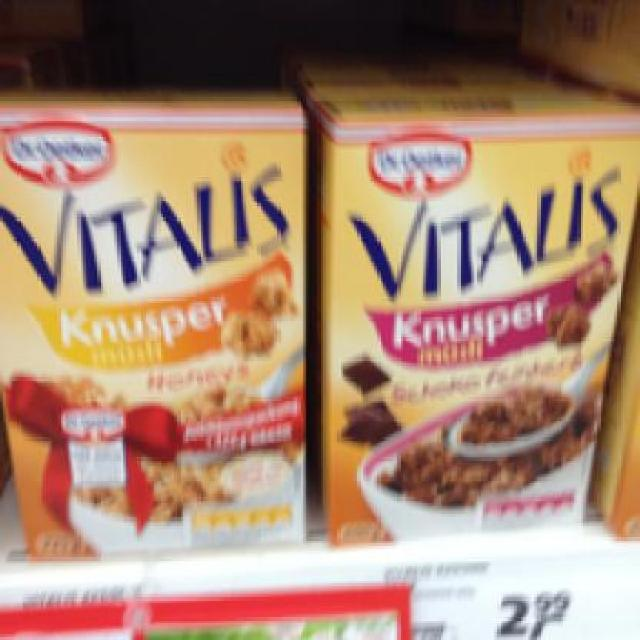Cereal: (302, 82, 638, 548), (0, 85, 309, 566)
